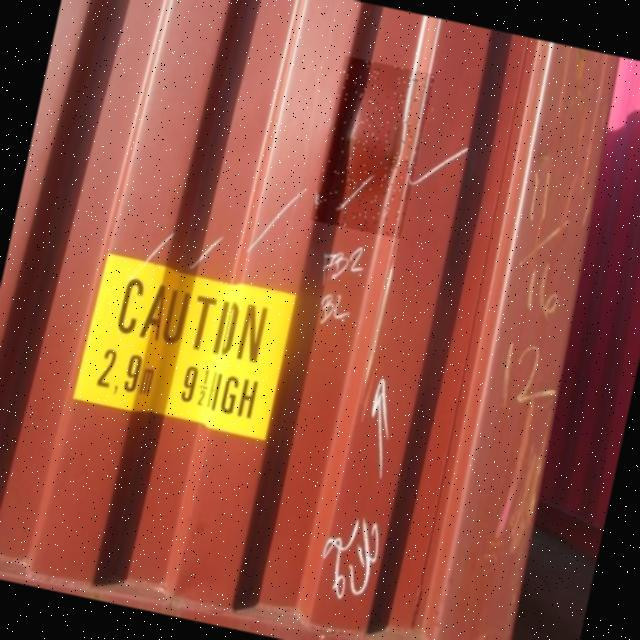Minor-Dent: (310, 56, 435, 239)
